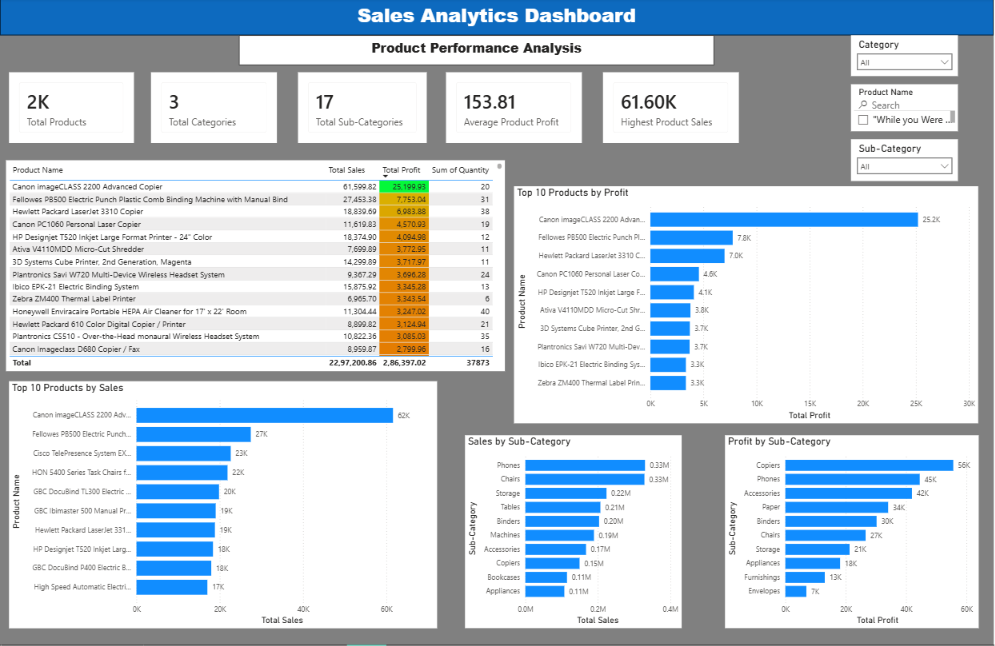

What the dashboard file says about the page in this screenshot:
{"tool":"powerbi","page":{"name":"Product Performance Analysis","canvas":[1673,1089],"ordinal":1},"visuals":[{"type":"textbox","box":[0,0,1672.5,62.5],"z":0},{"type":"textbox","box":[402.5,62.5,800,50],"z":1000},{"type":"cardVisual","fields":{"Data":["Orders.Total Products"]},"box":[15.2,124.6,210.5,119.5],"z":2000},{"type":"cardVisual","fields":{"Data":["Orders.Total Categories"]},"box":[254.2,124.6,212.1,119.5],"z":3000},{"type":"cardVisual","fields":{"Data":["Orders.Total Sub-Categories"]},"box":[501.7,124.6,217.2,119.5],"z":4000},{"type":"cardVisual","fields":{"Data":["Orders.Average Product Profit"]},"box":[750.9,124.6,229,119.5],"z":5000},{"type":"clusteredBarChart","title":"Top 10 Products by Sales","fields":{"Y":["Orders.Total Sales"],"Category":["Orders.Product Name"]},"box":[15.2,644.9,720.6,415.9],"z":6000},{"type":"clusteredBarChart","title":"Top 10 Products by Profit","fields":{"Y":["Orders.Total Profit"],"Category":["Orders.Product Name"]},"box":[865.4,316.5,781.2,399],"z":7000},{"type":"clusteredBarChart","title":"Sales by Sub-Category","fields":{"Y":["Orders.Total Sales"],"Category":["Orders.Sub-Category"]},"box":[782.5,735,365,325],"z":8000},{"type":"clusteredBarChart","title":"Profit by Sub-Category","fields":{"Y":["Orders.Total Profit"],"Category":["Orders.Sub-Category"]},"box":[1220,735,427.5,325],"z":9000},{"type":"slicer","fields":{"Values":["Orders.Category"]},"box":[1432.8,62.3,180.2,69],"z":10000},{"type":"tableEx","fields":{"Values":["Orders.Product Name","Orders.Total Sales","Orders.Total Profit","Sum(Orders.Quantity)"]},"box":[10.1,272.8,840.2,355.3],"z":10001},{"type":"slicer","fields":{"Values":["Orders.Sub-Category"]},"box":[1432.8,237.4,180.2,70.7],"z":10002},{"type":"cardVisual","title":"Highest Product Sales","fields":{"Data":["Orders.Top Product Sales"]},"box":[1015.3,124.6,229,119.5],"z":10003},{"type":"slicer","fields":{"Values":["Orders.Product Name"]},"box":[1432.8,144.8,180.2,79.1],"z":10004}]}

Visuals, with their boxes in screenshot pixels (x1, y1, x2, y2), scaled from the page's 1673x1089 canvas onto the 995x646 screenshot:
textbox: [x1=0, y1=0, x2=994, y2=37]
textbox: [x1=239, y1=37, x2=715, y2=67]
cardVisual - Orders.Total Products: [x1=9, y1=74, x2=134, y2=145]
cardVisual - Orders.Total Categories: [x1=151, y1=74, x2=277, y2=145]
cardVisual - Orders.Total Sub-Categories: [x1=298, y1=74, x2=428, y2=145]
cardVisual - Orders.Average Product Profit: [x1=447, y1=74, x2=583, y2=145]
"Top 10 Products by Sales" clusteredBarChart: [x1=9, y1=383, x2=438, y2=629]
"Top 10 Products by Profit" clusteredBarChart: [x1=515, y1=188, x2=979, y2=424]
"Sales by Sub-Category" clusteredBarChart: [x1=465, y1=436, x2=682, y2=629]
"Profit by Sub-Category" clusteredBarChart: [x1=726, y1=436, x2=980, y2=629]
slicer - Orders.Category: [x1=852, y1=37, x2=959, y2=78]
tableEx - Orders.Product Name x Orders.Total Sales: [x1=6, y1=162, x2=506, y2=373]
slicer - Orders.Sub-Category: [x1=852, y1=141, x2=959, y2=183]
"Highest Product Sales" cardVisual: [x1=604, y1=74, x2=740, y2=145]
slicer - Orders.Product Name: [x1=852, y1=86, x2=959, y2=133]
